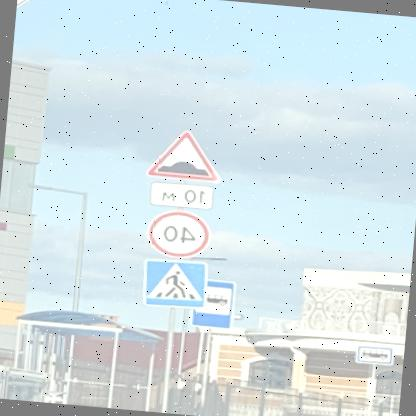crosswalk: (142, 256, 212, 311)
speedlimit: (148, 209, 214, 260)
